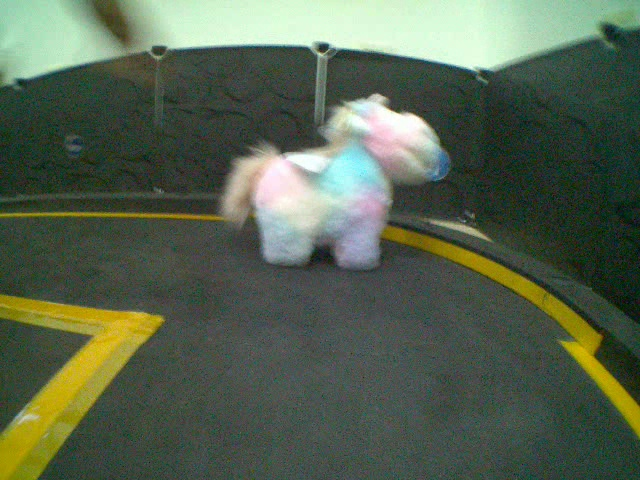unicorn: (218, 92, 441, 267)
